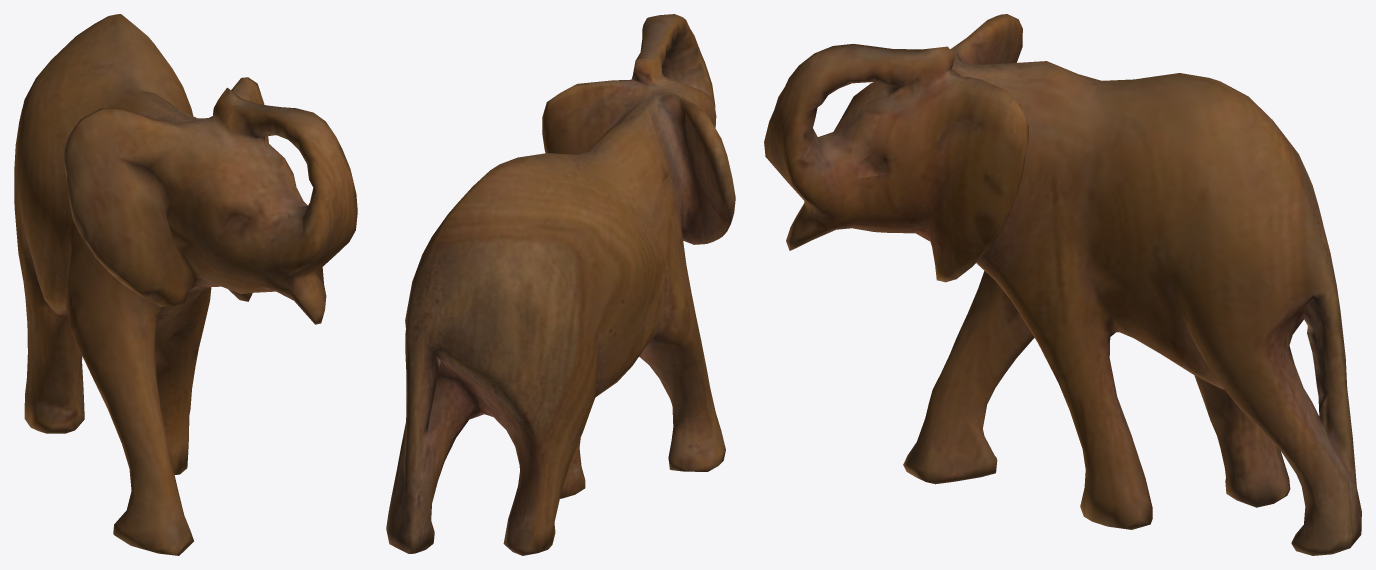
Rendered from chang.glb.
3 views of the same model, side by side, from view 1: azimuth 30°, elevation 25°; view 2: azimuth 150°, elevation 25°; view 3: azimuth 270°, elevation 25° (orthographic). The views are drawn at different scales.
Visible parts, largest first — view 1: carved_wooden_elephant; view 2: carved_wooden_elephant; view 3: carved_wooden_elephant.
Part boxes in pixels (<box>): carved_wooden_elephant: <box>14,14,357,555</box>; carved_wooden_elephant: <box>386,14,735,555</box>; carved_wooden_elephant: <box>764,14,1361,555</box>.
Size of the model in its own units: 0.0527 by 0.0962 by 0.1111.
Materials: 1 (1 with a texture image).
